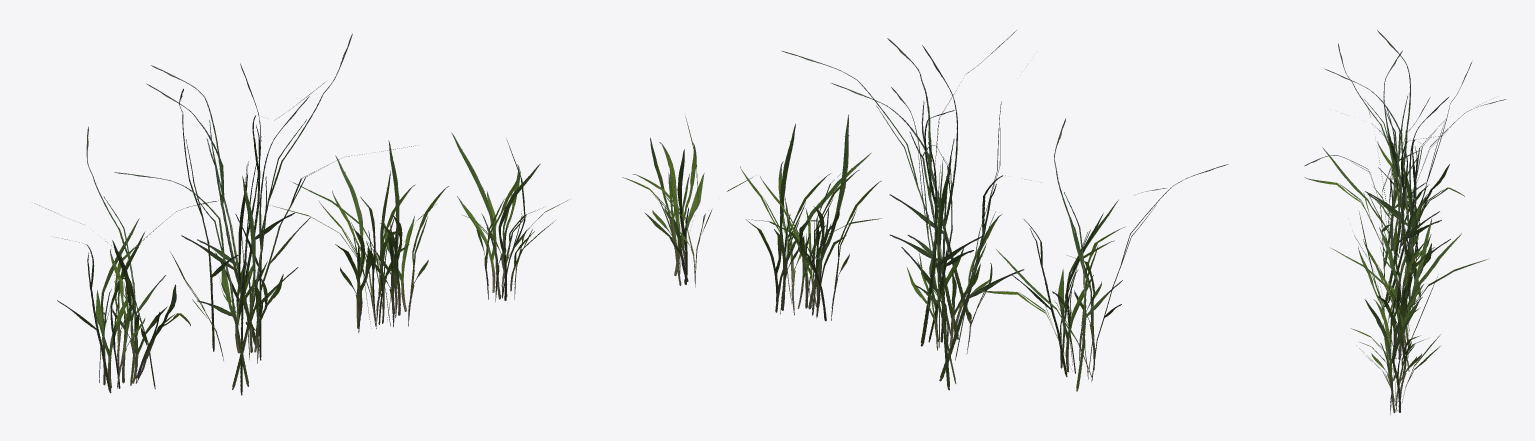
The model's file is grass.glb.
3 views of the same model, side by side, from view 1: azimuth 30°, elevation 25°; view 2: azimuth 150°, elevation 25°; view 3: azimuth 270°, elevation 25° (orthographic). The views are drawn at different scales.
Visible parts, largest first — view 1: grass; view 2: grass; view 3: grass.
Part boxes in pixels (left/top/right/bottom): grass: left=34, top=33, right=567, bottom=395; grass: left=622, top=30, right=1228, bottom=391; grass: left=1304, top=30, right=1505, bottom=414.
Bounding box in the file's own units: 6.36 × 3.98 × 2.92.
Materials: 1 (1 with a texture image).
